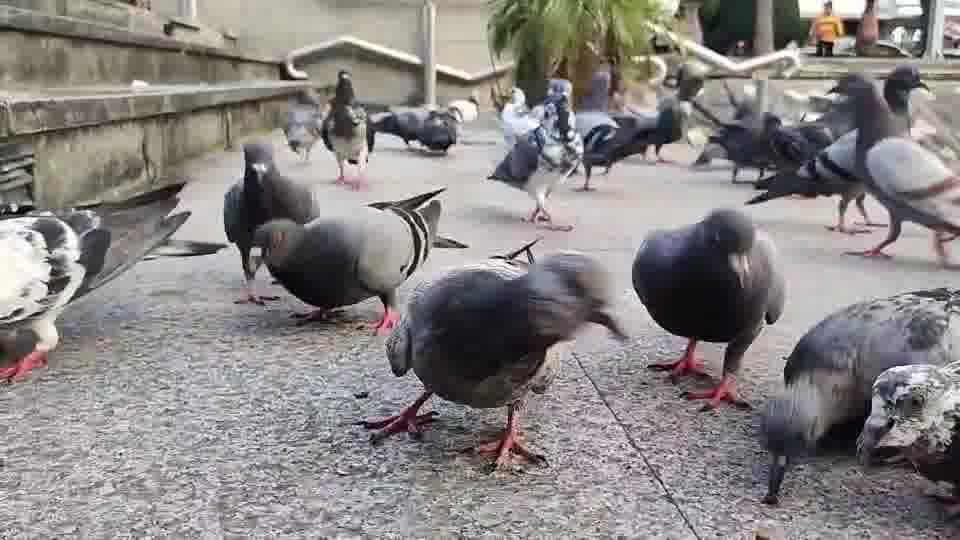Pigeon: (354, 243, 629, 470), (756, 285, 959, 505), (0, 179, 194, 384), (252, 184, 468, 335), (630, 207, 785, 413), (821, 69, 958, 269), (222, 138, 320, 306), (485, 83, 583, 228), (572, 93, 686, 191), (689, 79, 790, 184), (319, 69, 369, 186), (365, 104, 462, 155), (281, 87, 323, 161)
